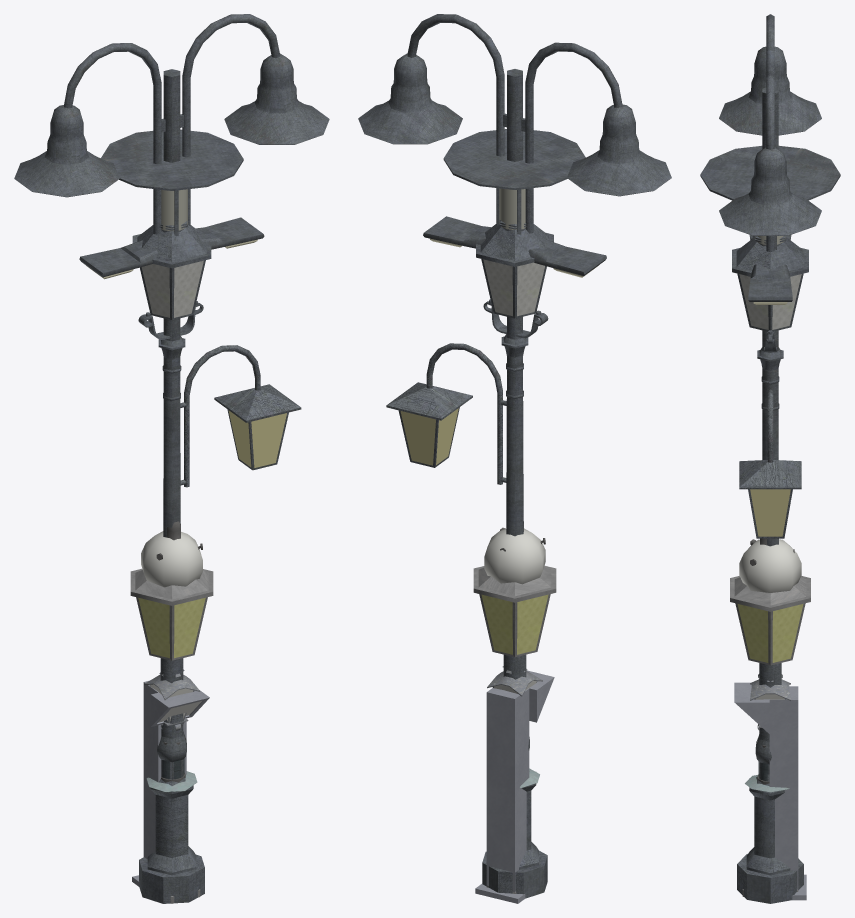
The model's file is All Light.FBX.
The picture shows the model from 3 angles, left to right: view 1: azimuth 30°, elevation 25°; view 2: azimuth 150°, elevation 25°; view 3: azimuth 270°, elevation 25°; orthographic projection. The views are drawn at different scales.
Parts seen in each view (by area): view 1: Garden_Light_14, Garden_Light_12, Garden_Light_13, Garden_Light_01, Garden_Light_04, Garden_Light_02, Garden_Light_11, Garden_Light_10, Garden_Light_07; view 2: Garden_Light_14, Garden_Light_13, Garden_Light_02, Garden_Light_12, Garden_Light_01, Garden_Light_04, Garden_Light_11, Garden_Light_10, Garden_Light_07; view 3: Garden_Light_14, Garden_Light_12, Garden_Light_02, Garden_Light_13, Garden_Light_04, Garden_Light_01, Garden_Light_10, Garden_Light_11, Garden_Light_07, Garden_Light_09.
Part boxes in pixels (x1,y1,x2,y2): Garden_Light_14: (14, 14, 329, 779); Garden_Light_12: (132, 221, 211, 903); Garden_Light_13: (101, 129, 243, 537); Garden_Light_01: (180, 345, 301, 774); Garden_Light_04: (130, 568, 213, 903); Garden_Light_02: (132, 680, 209, 886); Garden_Light_11: (79, 217, 264, 279); Garden_Light_10: (141, 531, 202, 587); Garden_Light_07: (144, 669, 200, 730); Garden_Light_14: (358, 14, 671, 679); Garden_Light_13: (443, 129, 585, 536); Garden_Light_02: (475, 670, 554, 903); Garden_Light_12: (476, 220, 553, 898); Garden_Light_01: (386, 343, 506, 484); Garden_Light_04: (473, 565, 556, 893); Garden_Light_11: (423, 216, 606, 277); Garden_Light_10: (484, 528, 545, 584); Garden_Light_07: (487, 666, 542, 696); Garden_Light_14: (719, 14, 821, 779); Garden_Light_12: (732, 236, 808, 903); Garden_Light_02: (734, 682, 806, 900); Garden_Light_13: (700, 145, 840, 546); Garden_Light_04: (730, 576, 810, 896); Garden_Light_01: (739, 389, 801, 781); Garden_Light_10: (739, 539, 801, 592); Garden_Light_11: (748, 235, 792, 304); Garden_Light_07: (750, 674, 790, 734); Garden_Light_09: (745, 775, 789, 792).
Size of the model in its own units: 2.87 by 7.93 by 1.2.
